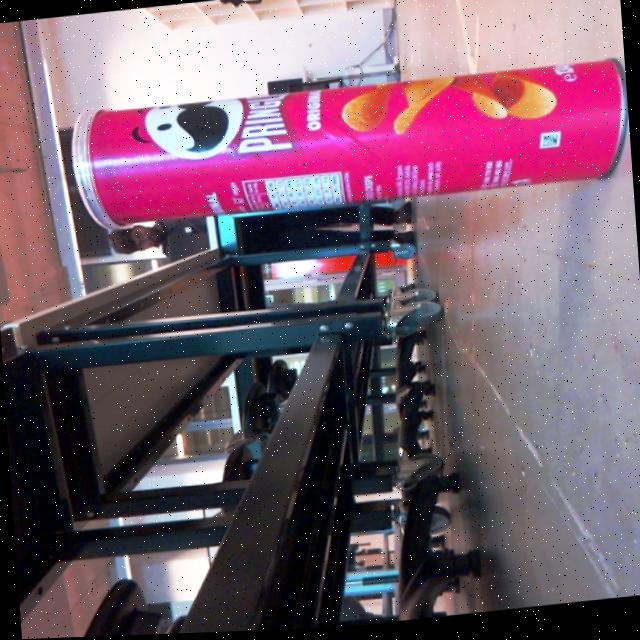redpringles: (46, 22, 634, 267)
